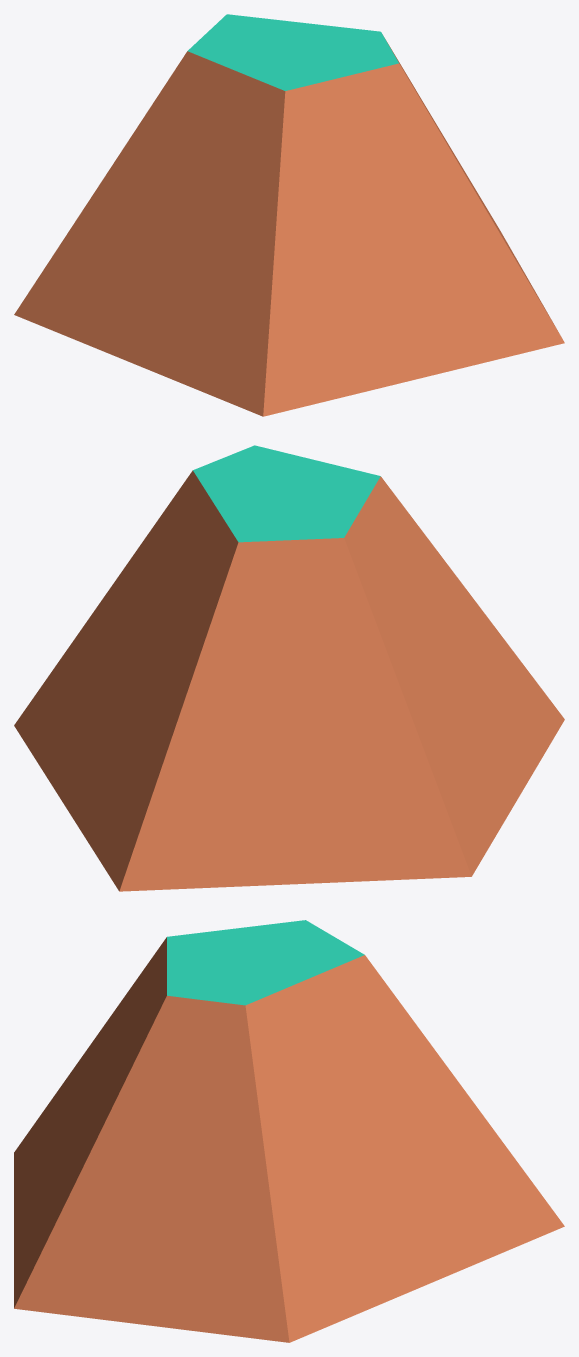
The model's file is rock_smallA.dae.
3 renders of one model, top to bottom at view 1: azimuth 30°, elevation 25°; view 2: azimuth 150°, elevation 25°; view 3: azimuth 270°, elevation 25°, orthographic. The views are drawn at different scales.
Parts seen in each view (by area): view 1: rock_smallA; view 2: rock_smallA; view 3: rock_smallA.
Boxes of the visible parts, <box> form: rock_smallA: <box>14,14,564,416</box>; rock_smallA: <box>14,445,564,891</box>; rock_smallA: <box>14,920,564,1342</box>.
Bounding box in the file's own units: 0.3608 × 0.1912 × 0.3608.
